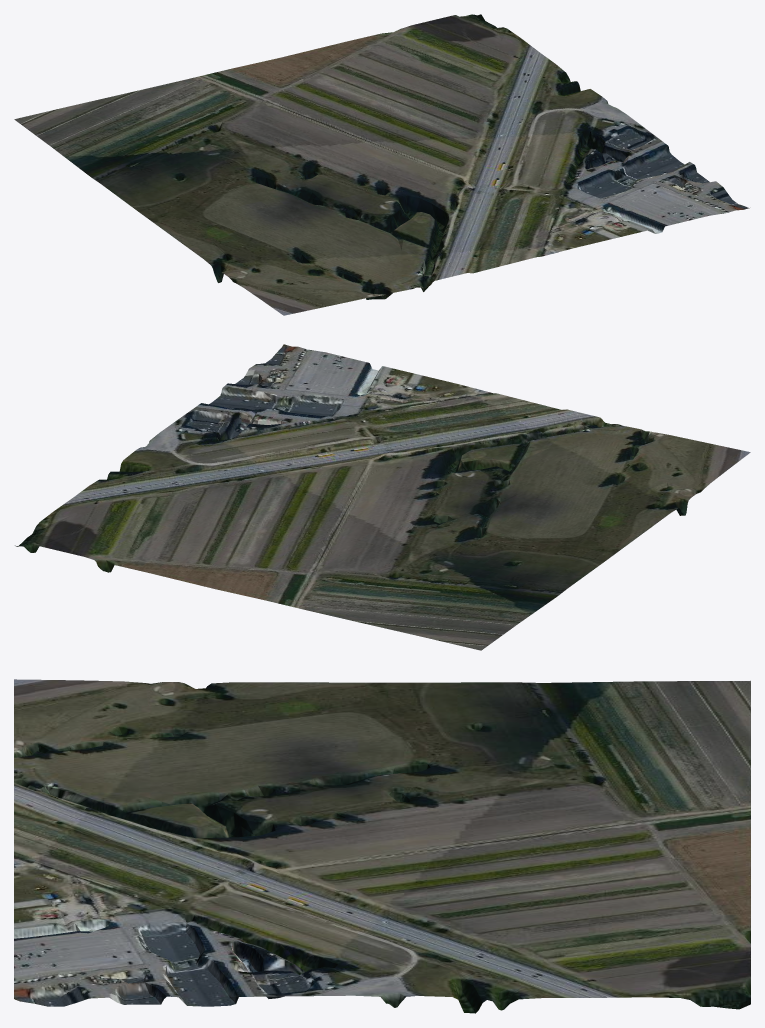
Rendered from map_12_1020_1726.dae.
The picture shows the model from 3 angles, top to bottom: view 1: azimuth 30°, elevation 25°; view 2: azimuth 150°, elevation 25°; view 3: azimuth 270°, elevation 25°; orthographic projection. The views are drawn at different scales.
Parts seen in each view (by area): view 1: Ter0; view 2: Ter0; view 3: Ter0.
Part boxes in pixels (x1,y1,x2,y2): Ter0: [14, 14, 749, 315]; Ter0: [15, 344, 750, 650]; Ter0: [14, 679, 750, 1013].
Size of the model in its own units: 511 by 511 by 21.3.
3 materials, 3 textured.
